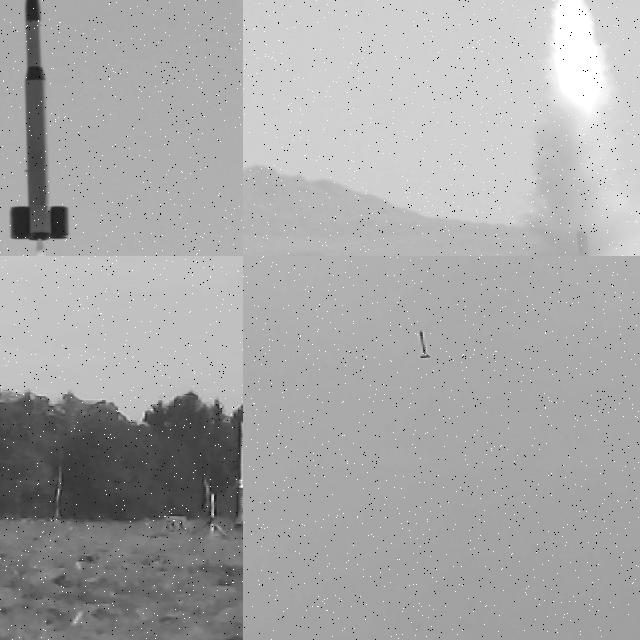Rocket: (9, 0, 70, 241), (233, 421, 243, 525), (200, 478, 212, 511), (420, 330, 430, 359)
